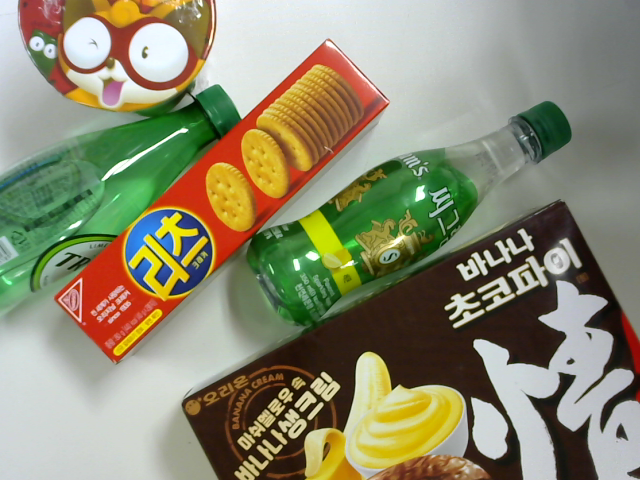Choco_Pie_Banana: (176, 187, 640, 478)
Raccoon: (15, 1, 219, 117)
Ritz_Cracker: (46, 37, 391, 373)
Seagram_Lemon_Carbonated_Water: (245, 98, 580, 340)
Treviraim_500ml: (1, 79, 243, 342)
